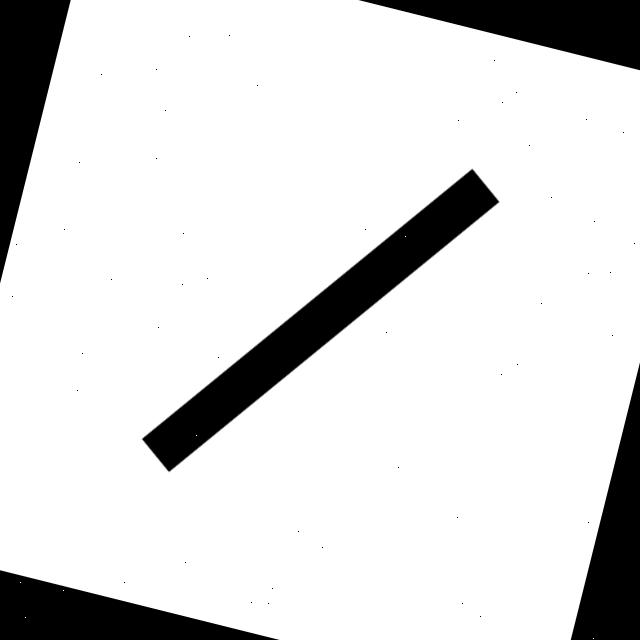line: (141, 169, 499, 472)
